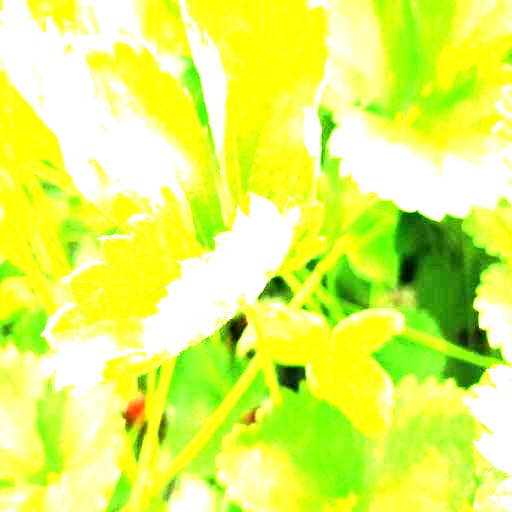Powdery Mildew Leaf: (42, 181, 301, 398), (0, 14, 232, 249)
